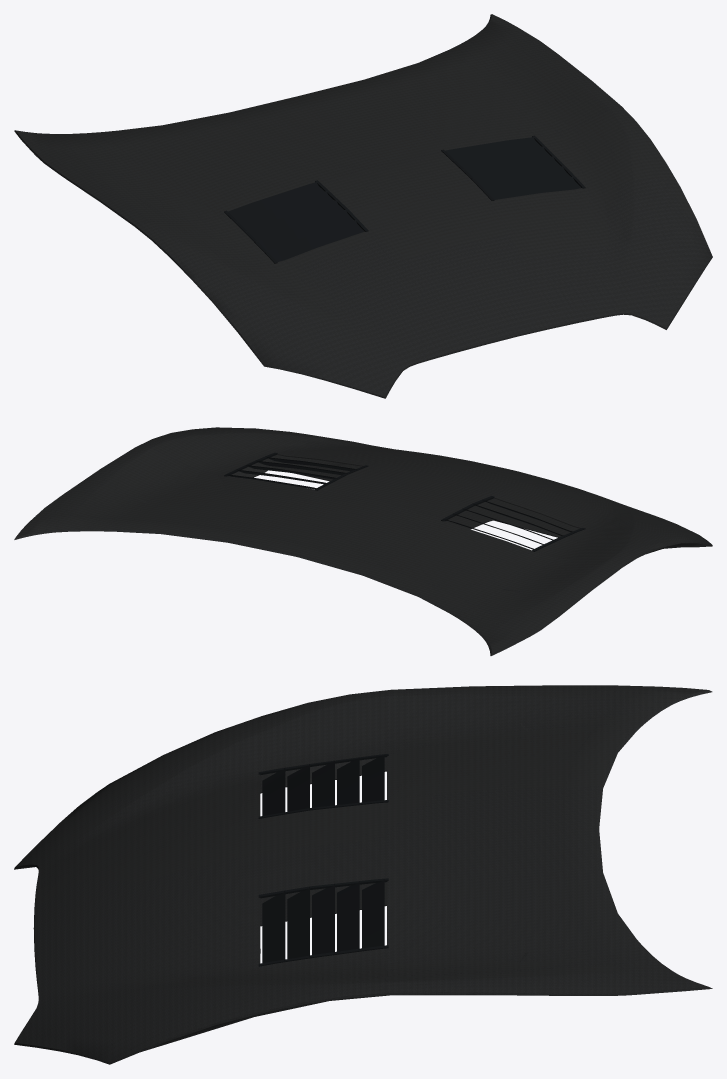
File: BP01_vented_bonnet.glb
3 renders of one model, top to bottom at view 1: azimuth 30°, elevation 25°; view 2: azimuth 150°, elevation 25°; view 3: azimuth 270°, elevation 25°, orthographic. The views are drawn at different scales.
Visible parts, largest first — view 1: MOD_ND_BP01_panel, MOD_ND_BP01_louvre_0_4, MOD_ND_BP01_louvre_0_3, MOD_ND_BP01_louvre_0_2, MOD_ND_BP01_louvre_1_4, MOD_ND_BP01_louvre_0_1, MOD_ND_BP01_louvre_0_0, MOD_ND_BP01_louvre_1_3, MOD_ND_BP01_louvre_1_2, MOD_ND_BP01_louvre_1_1, MOD_ND_BP01_louvre_1_0; view 2: MOD_ND_BP01_panel; view 3: MOD_ND_BP01_panel, MOD_ND_BP01_louvre_1_4, MOD_ND_BP01_louvre_1_3, MOD_ND_BP01_louvre_1_2, MOD_ND_BP01_louvre_1_1, MOD_ND_BP01_louvre_1_0, MOD_ND_BP01_louvre_0_4, MOD_ND_BP01_louvre_0_0, MOD_ND_BP01_louvre_0_1, MOD_ND_BP01_louvre_0_2, MOD_ND_BP01_louvre_0_3.
Part boxes in pixels (x1=…): MOD_ND_BP01_panel: x1=14, y1=14, x2=712, y2=398; MOD_ND_BP01_louvre_0_4: x1=265, y1=219, x2=363, y2=262; MOD_ND_BP01_louvre_0_3: x1=255, y1=209, x2=353, y2=250; MOD_ND_BP01_louvre_0_2: x1=246, y1=200, x2=343, y2=240; MOD_ND_BP01_louvre_1_4: x1=482, y1=176, x2=580, y2=199; MOD_ND_BP01_louvre_0_1: x1=236, y1=190, x2=333, y2=230; MOD_ND_BP01_louvre_0_0: x1=226, y1=181, x2=323, y2=220; MOD_ND_BP01_louvre_1_3: x1=472, y1=166, x2=570, y2=188; MOD_ND_BP01_louvre_1_2: x1=463, y1=156, x2=560, y2=178; MOD_ND_BP01_louvre_1_1: x1=453, y1=146, x2=550, y2=168; MOD_ND_BP01_louvre_1_0: x1=443, y1=137, x2=540, y2=159; MOD_ND_BP01_panel: x1=14, y1=427, x2=712, y2=655; MOD_ND_BP01_panel: x1=14, y1=685, x2=712, y2=1064; MOD_ND_BP01_louvre_1_4: x1=262, y1=890, x2=285, y2=962; MOD_ND_BP01_louvre_1_3: x1=287, y1=886, x2=309, y2=958; MOD_ND_BP01_louvre_1_2: x1=312, y1=884, x2=334, y2=954; MOD_ND_BP01_louvre_1_1: x1=337, y1=881, x2=359, y2=951; MOD_ND_BP01_louvre_1_0: x1=362, y1=879, x2=384, y2=948; MOD_ND_BP01_louvre_0_4: x1=262, y1=768, x2=285, y2=815; MOD_ND_BP01_louvre_0_0: x1=362, y1=754, x2=384, y2=802; MOD_ND_BP01_louvre_0_1: x1=337, y1=757, x2=359, y2=804; MOD_ND_BP01_louvre_0_2: x1=312, y1=760, x2=334, y2=807; MOD_ND_BP01_louvre_0_3: x1=287, y1=764, x2=309, y2=811.
Size of the model in its own units: 1.44 by 0.2826 by 1.38.
Materials: 2 (1 with a texture image).
